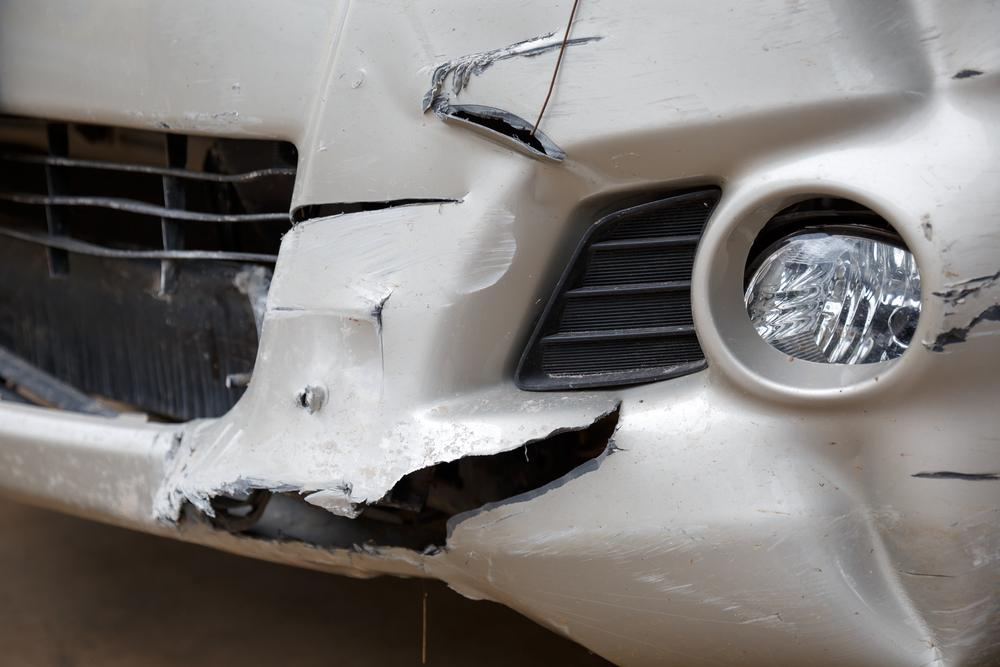crack: (160, 400, 623, 557), (436, 109, 565, 161), (286, 198, 465, 235)
scratch: (511, 513, 802, 640), (918, 212, 1000, 360), (444, 208, 523, 294)
